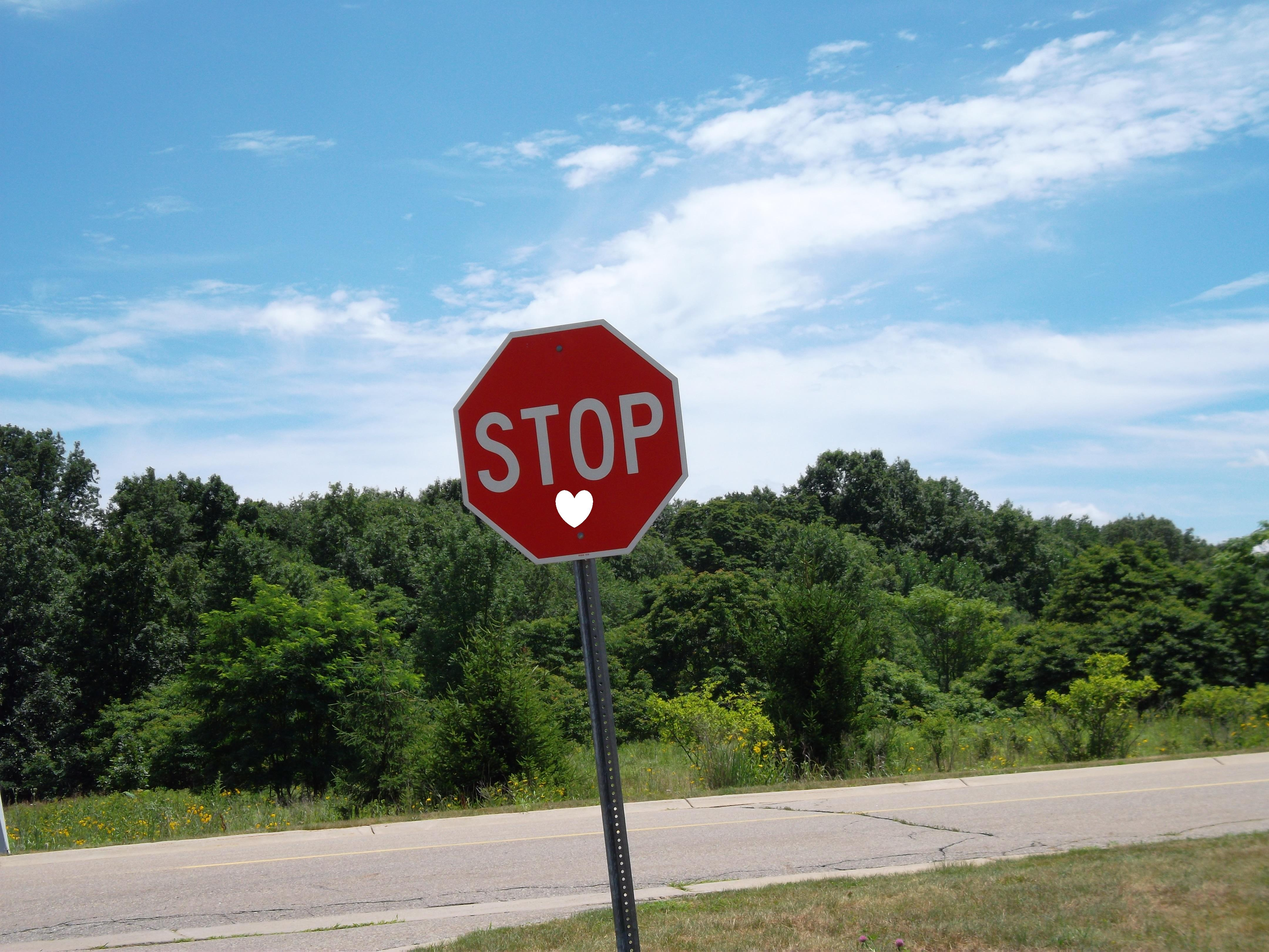Stop: (445, 342, 664, 563)
